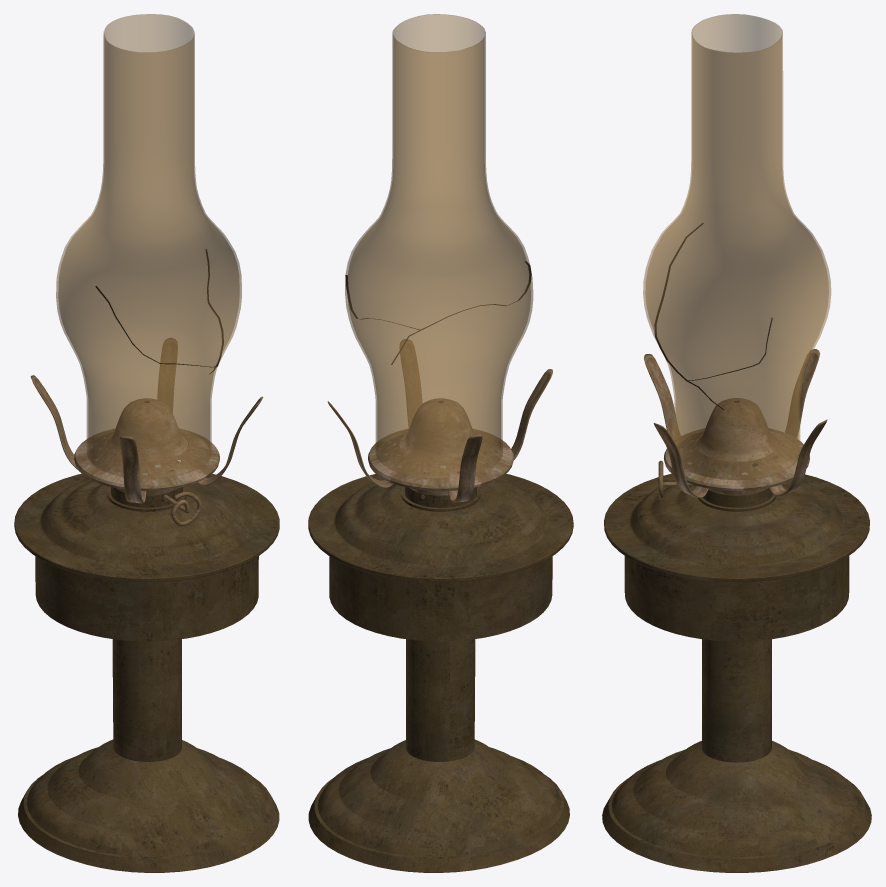
The model's file is Youdeng.obj.
3 views of the same model, side by side, from view 1: azimuth 30°, elevation 25°; view 2: azimuth 150°, elevation 25°; view 3: azimuth 270°, elevation 25° (orthographic).
Parts seen in each view (by area): view 1: Line002; view 2: Line002; view 3: Line002.
Part boxes in pixels (x1,y1,x2,y2): Line002: (14, 14, 279, 872); Line002: (308, 14, 573, 872); Line002: (602, 14, 871, 872).
Size of the model in its own units: 421 by 1375 by 428.
5 materials, 3 textured.
